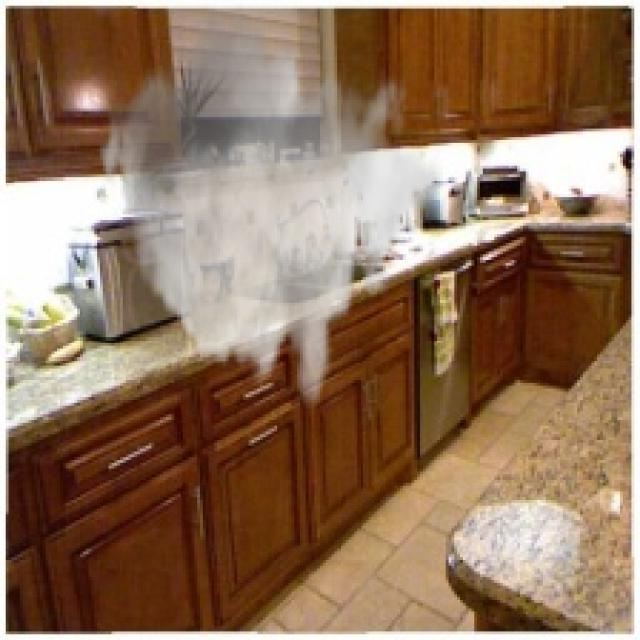Smoke: (97, 2, 443, 412)
